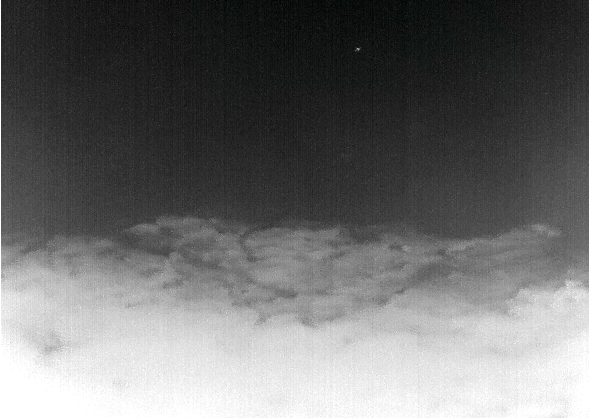dim target: (354, 46, 361, 53)
